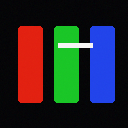3 line_h: (58, 43, 92, 47)
